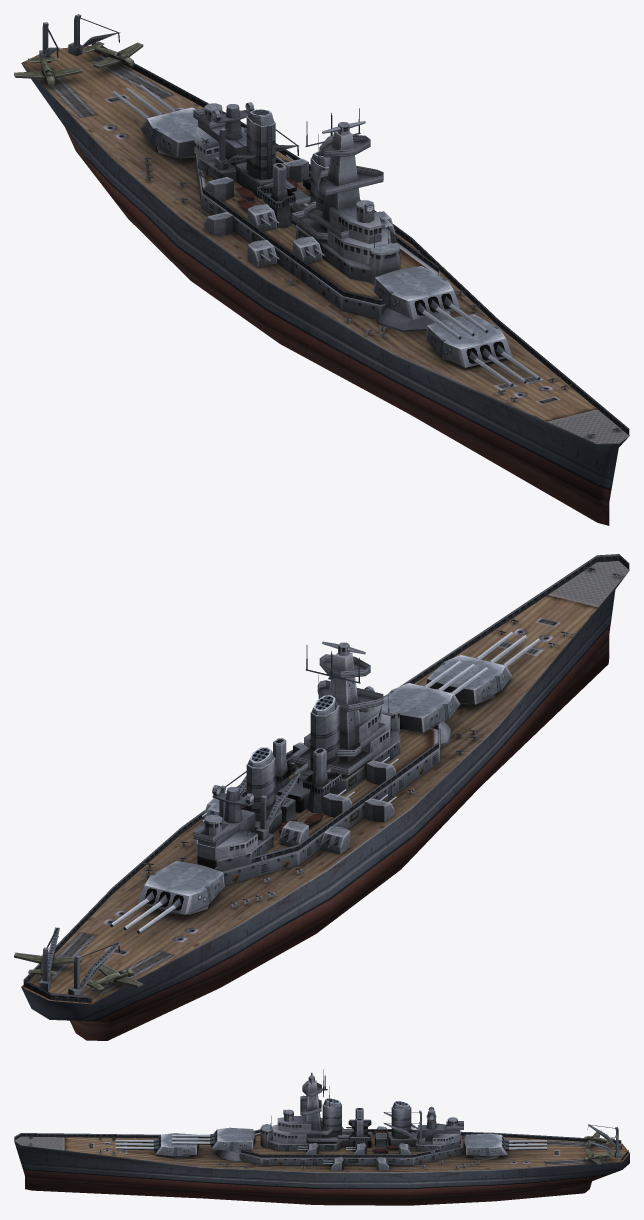
The model's file is Iowa.fbx.
The picture shows the model from 3 angles, top to bottom: view 1: azimuth 30°, elevation 25°; view 2: azimuth 150°, elevation 25°; view 3: azimuth 270°, elevation 25°; orthographic projection. The views are drawn at different scales.
Visible parts, largest first — view 1: Body, M_Cannon02, M_Cannon01, M_Cannon03, S_Cannon07; view 2: Body, M_Cannon03, M_Cannon02, M_Cannon01, S_Cannon09; view 3: Body, M_Cannon02, M_Cannon03, M_Cannon01, barrel02_ncl1_2, barrel01, barrel02_ncl1_1.
Boxes of the visible parts, box(x1,y1,x2,y2) form: Body: box(14, 14, 629, 525); M_Cannon02: box(373, 266, 460, 319); M_Cannon01: box(425, 314, 512, 367); M_Cannon03: box(140, 107, 197, 157); S_Cannon07: box(247, 240, 279, 267); Body: box(14, 554, 629, 1040); M_Cannon03: box(138, 861, 224, 914); M_Cannon02: box(383, 683, 460, 732); M_Cannon01: box(426, 654, 512, 704); S_Cannon09: box(318, 826, 350, 854); Body: box(14, 1069, 629, 1205); M_Cannon02: box(211, 1127, 255, 1150); M_Cannon03: box(463, 1133, 507, 1156); M_Cannon01: box(155, 1133, 198, 1156); barrel02_ncl1_2: box(509, 1140, 546, 1150); barrel01: box(172, 1134, 209, 1144); barrel02_ncl1_1: box(115, 1140, 153, 1149).
Bounding box in the file's own units: 42.14 × 54.05 × 266.
1 material, 1 textured.
